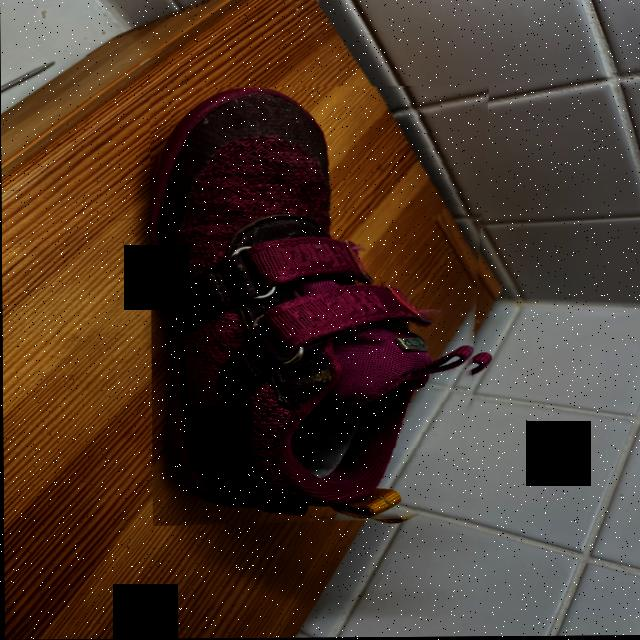shoe: (150, 86, 492, 527)
